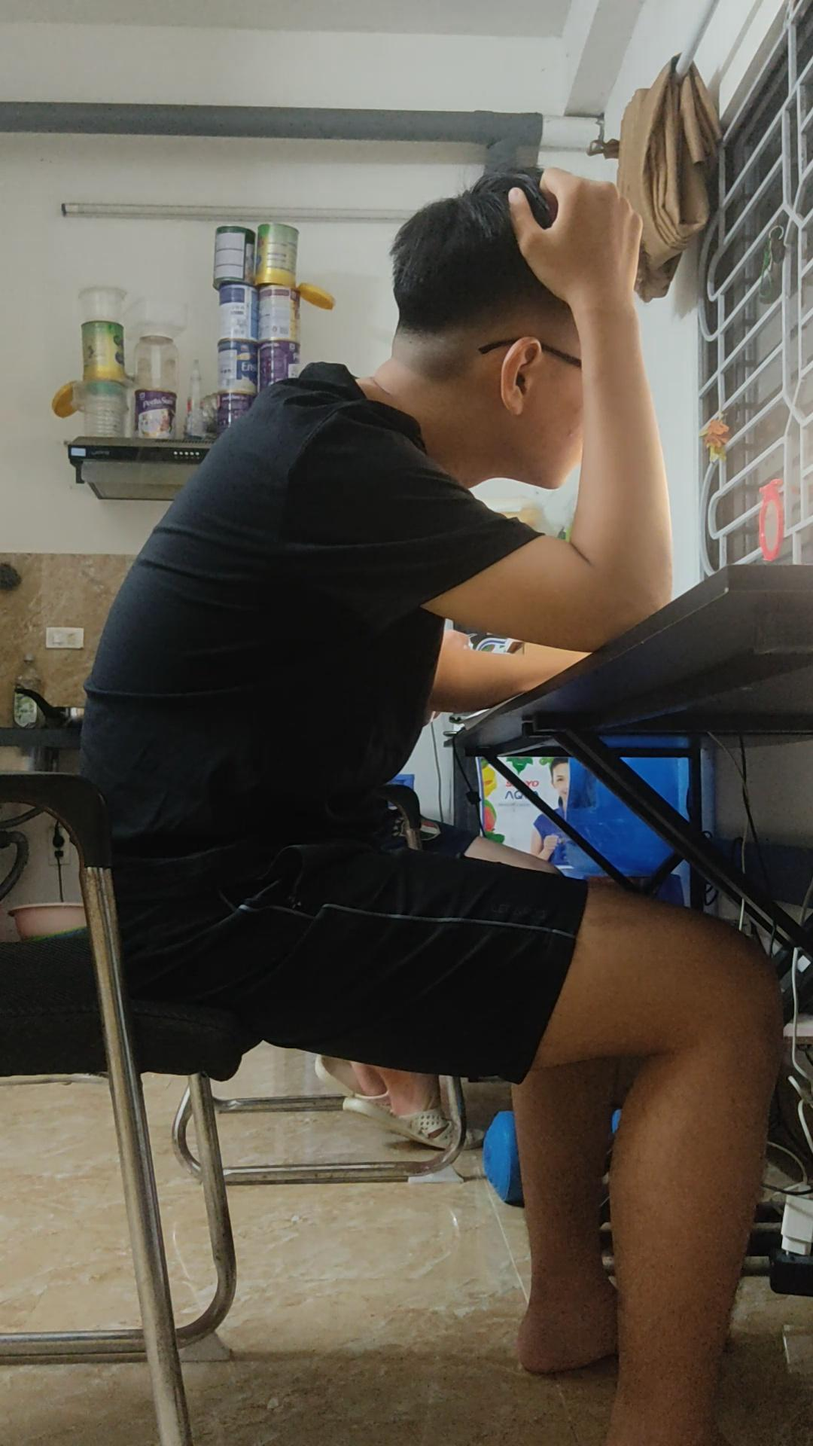BadPosture: (81, 169, 781, 1445)
